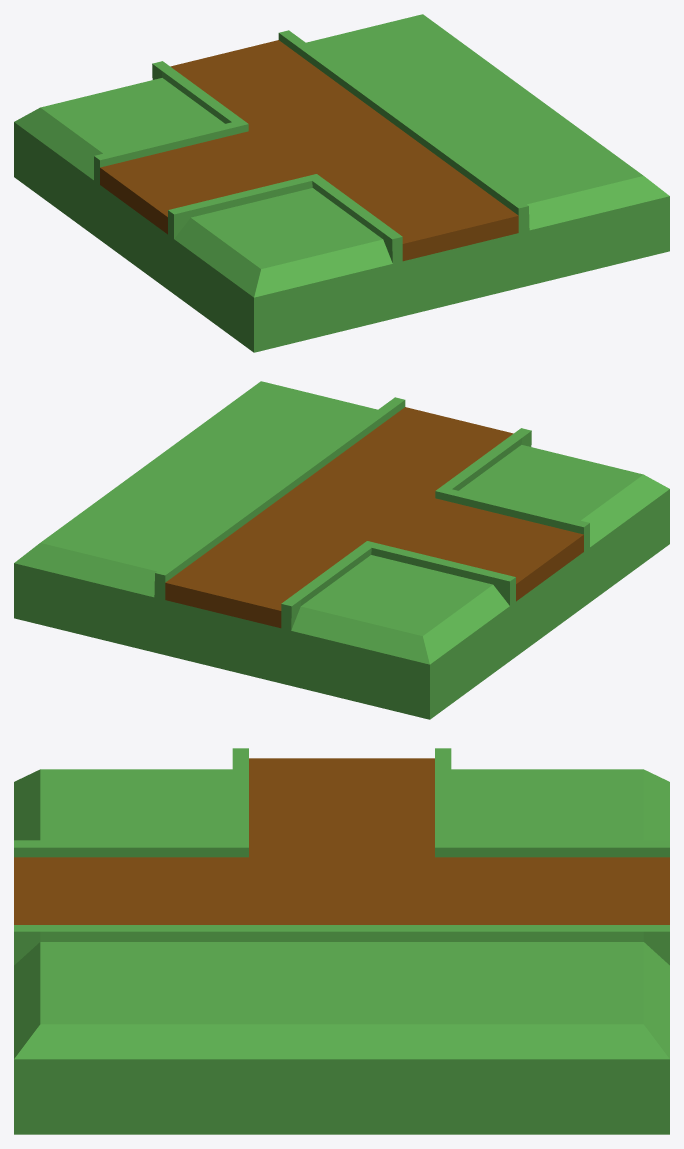
File: Tcross.fbx
3 views of the same model, one above another, from view 1: azimuth 30°, elevation 25°; view 2: azimuth 150°, elevation 25°; view 3: azimuth 270°, elevation 25° (orthographic). The views are drawn at different scales.
Visible parts, largest first — view 1: Cube; view 2: Cube; view 3: Cube.
Boxes of the visible parts, bbox=[...] form: Cube: bbox=[14, 14, 669, 352]; Cube: bbox=[14, 381, 669, 719]; Cube: bbox=[14, 748, 669, 1134].
Size of the model in its own units: 600 by 110 by 600.
